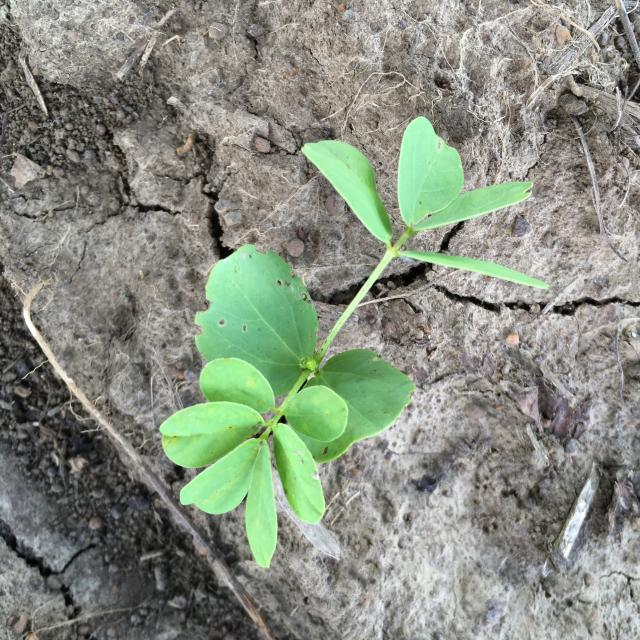Sicklepod: (159, 116, 549, 568)
